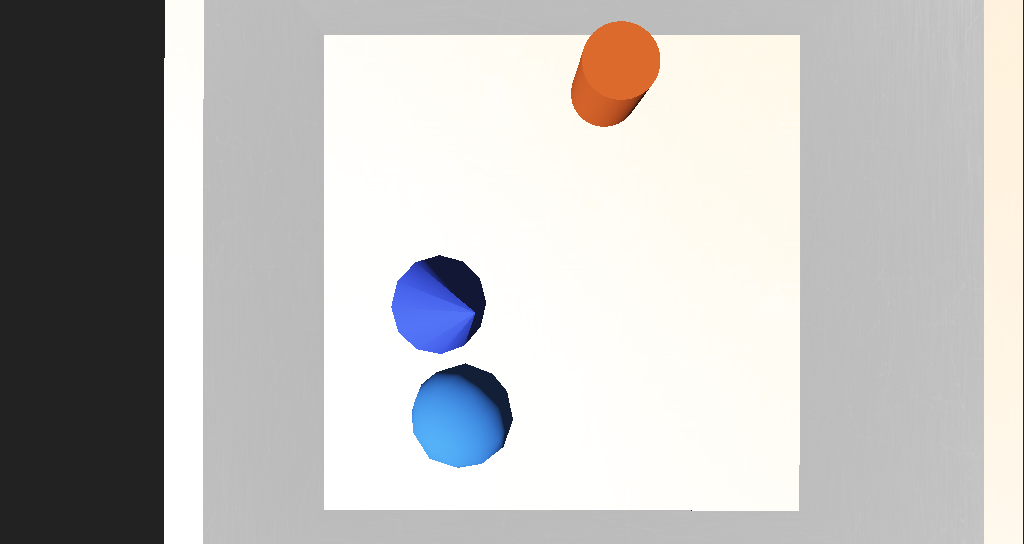cone: (515, 162, 563, 200)
cylinder: (381, 255, 495, 317)
sphere: (414, 305, 475, 353)
